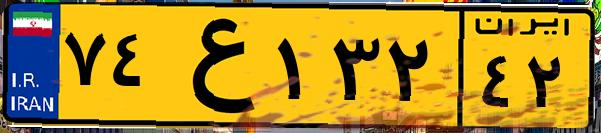1: (270, 28, 330, 110)
2: (385, 28, 445, 110), (525, 38, 570, 115)
3: (330, 28, 385, 110)
4: (475, 38, 525, 113), (110, 28, 158, 98)
7: (57, 26, 110, 100)
ع: (158, 12, 270, 120)
